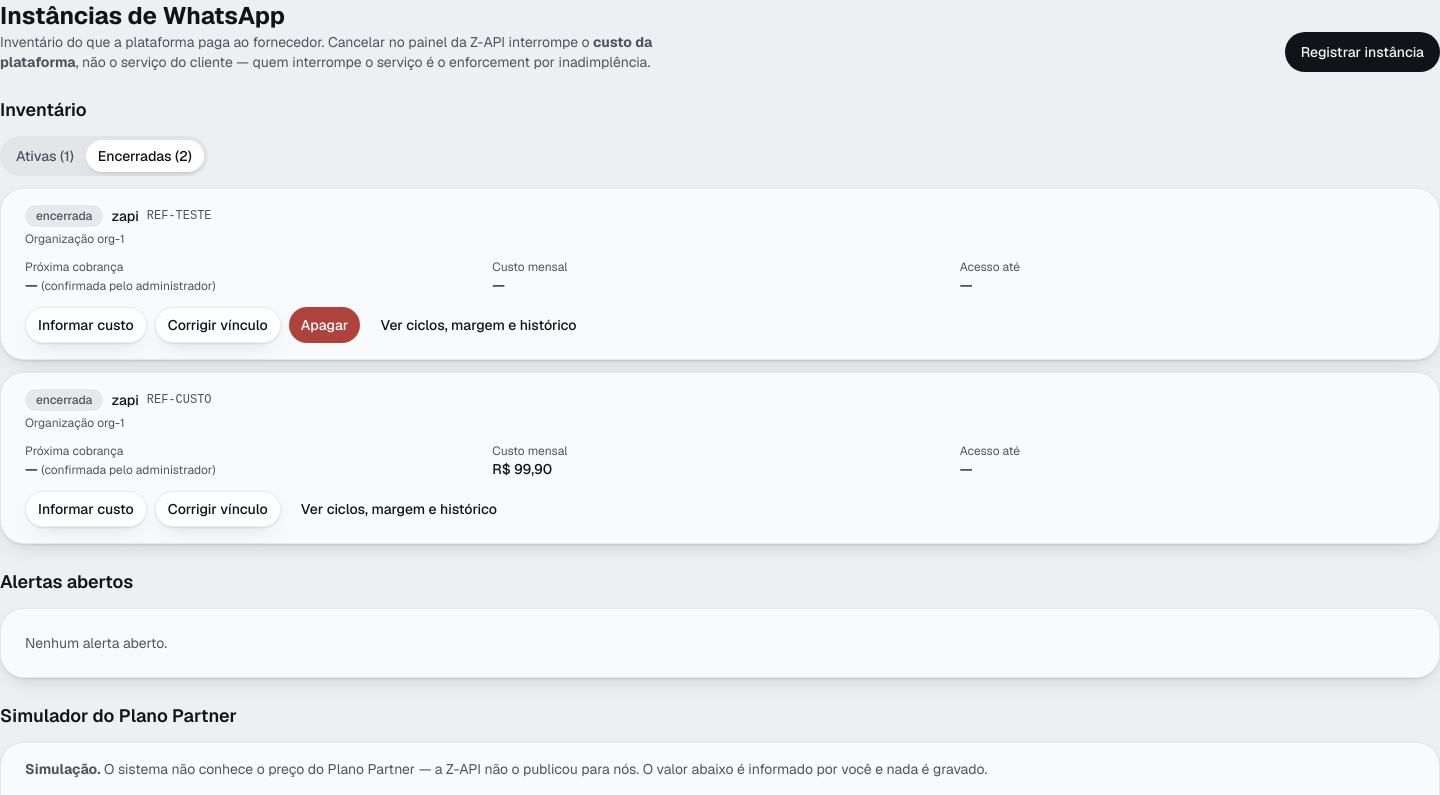
Test: Instâncias de WhatsApp — abas e exclusão › delete_instance com erro 404 fecha o diálogo
Click the button "Apagar" at (325, 325), box [289,307,360,343]
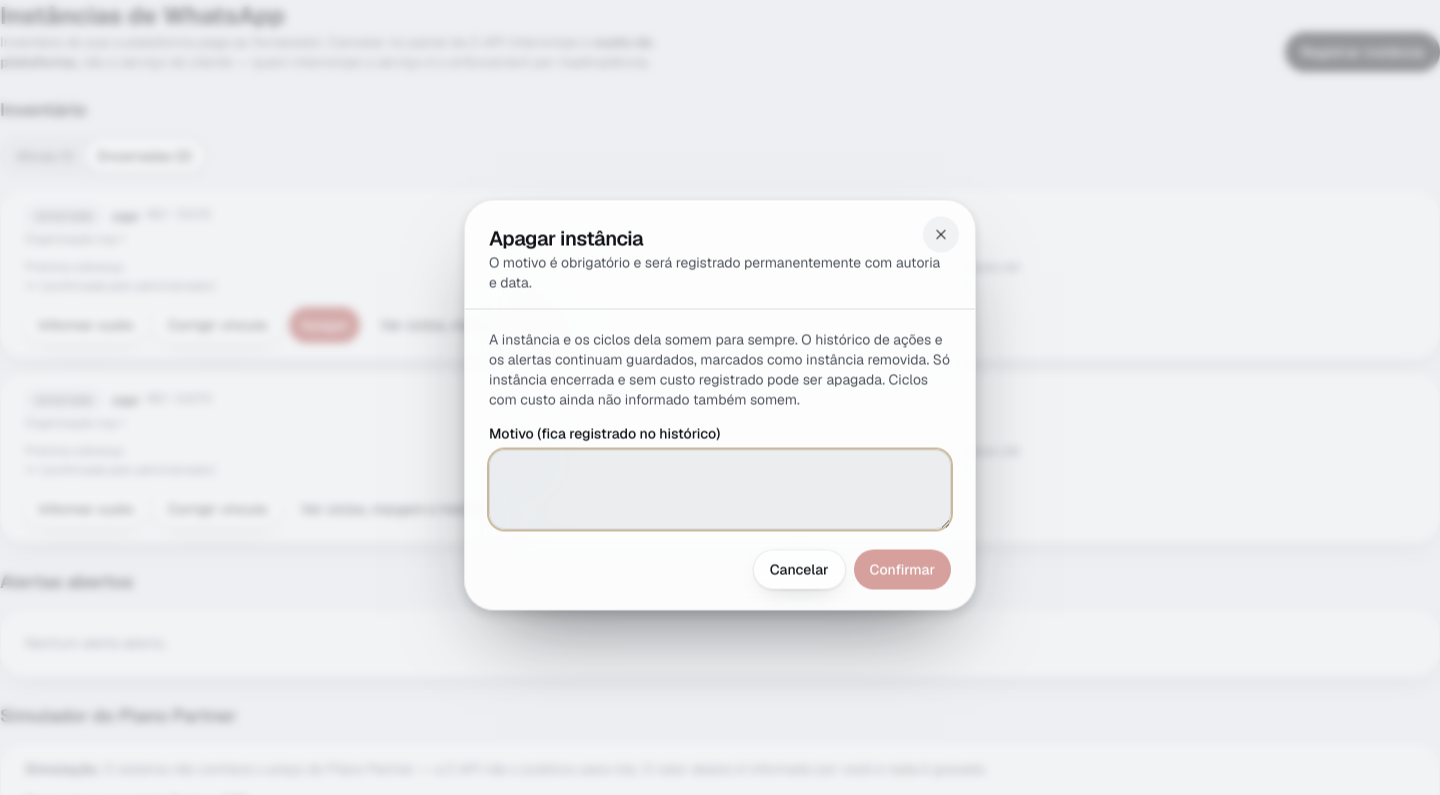
Type "era instância de teste" into the text box labelled "Motivo (fica registrado no histórico)" at (720, 490), box [489,450,951,530]
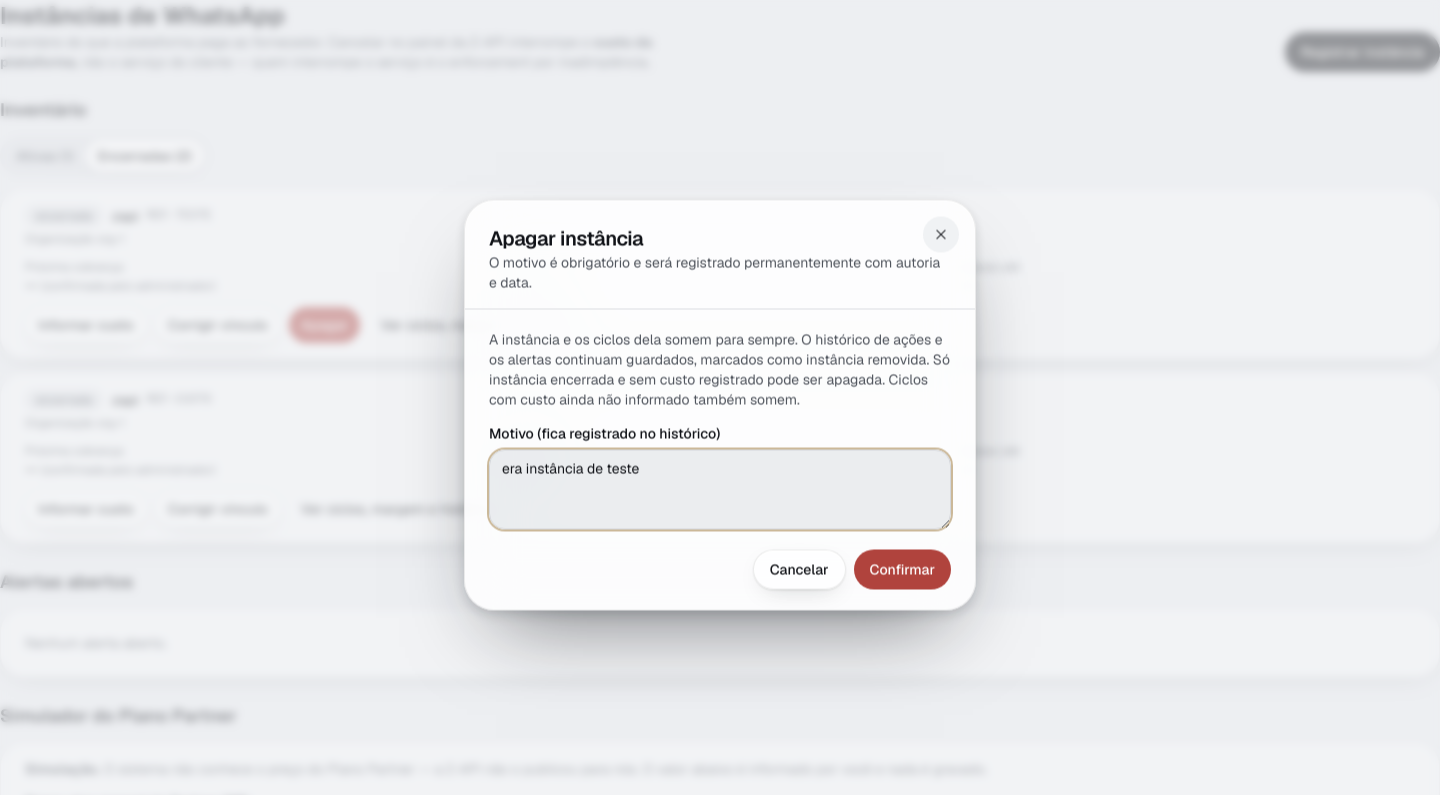
Click the button "Confirmar" at (902, 570), box [854,550,951,590]
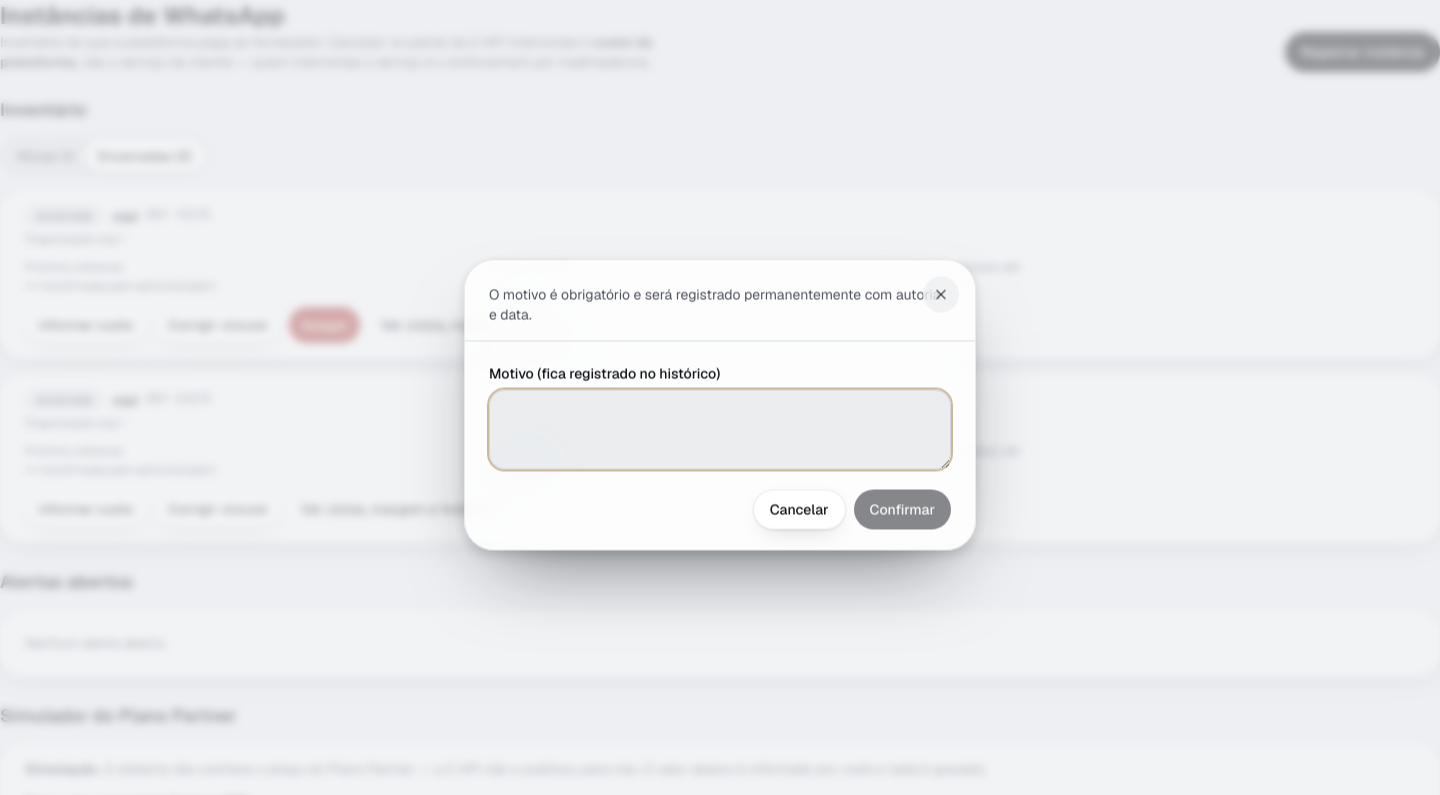
expect the heading "Apagar instância" is gone: met
